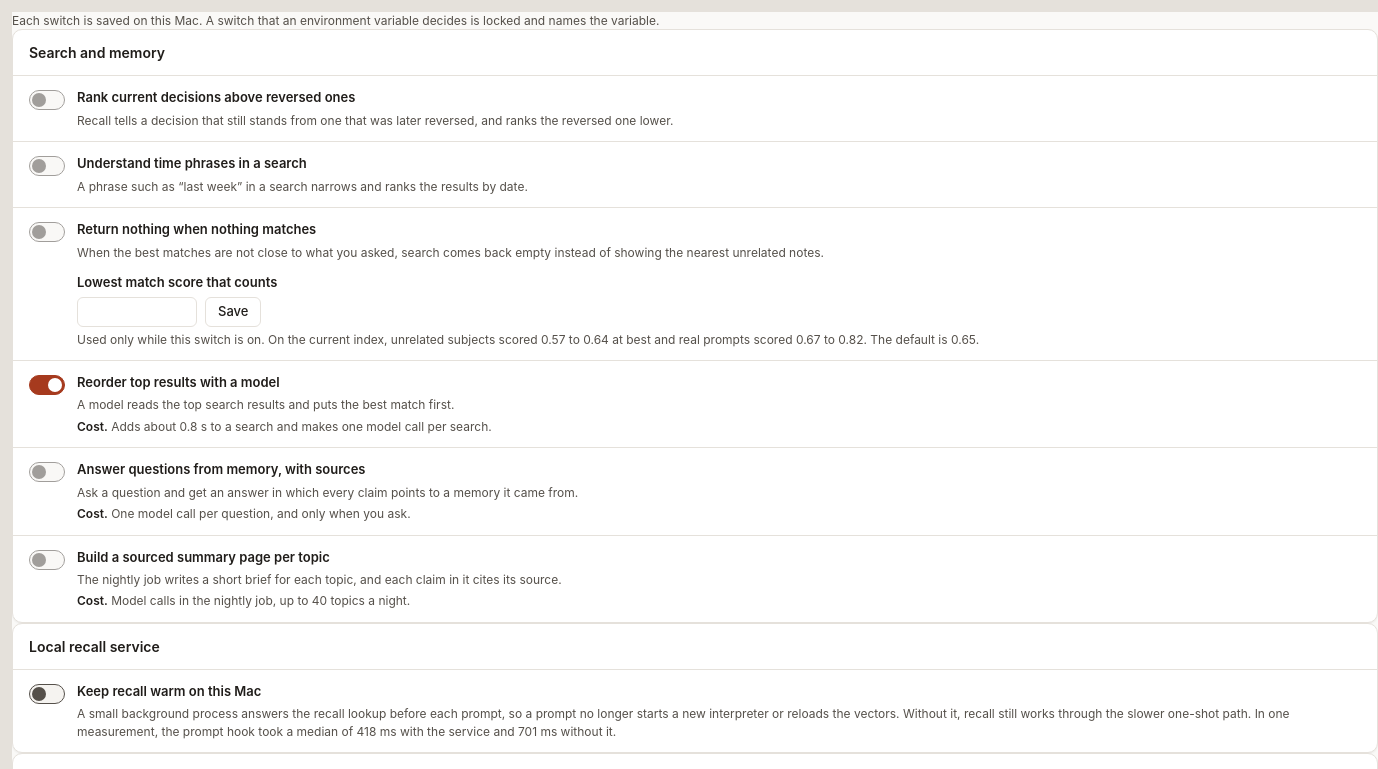
Test: Optional features: a write that succeeds and a re-read that fails › does not leave the old value on screen with no error
Click the switch labelled "Reorder top results with a model" at (47, 385), box [29, 375, 65, 395]
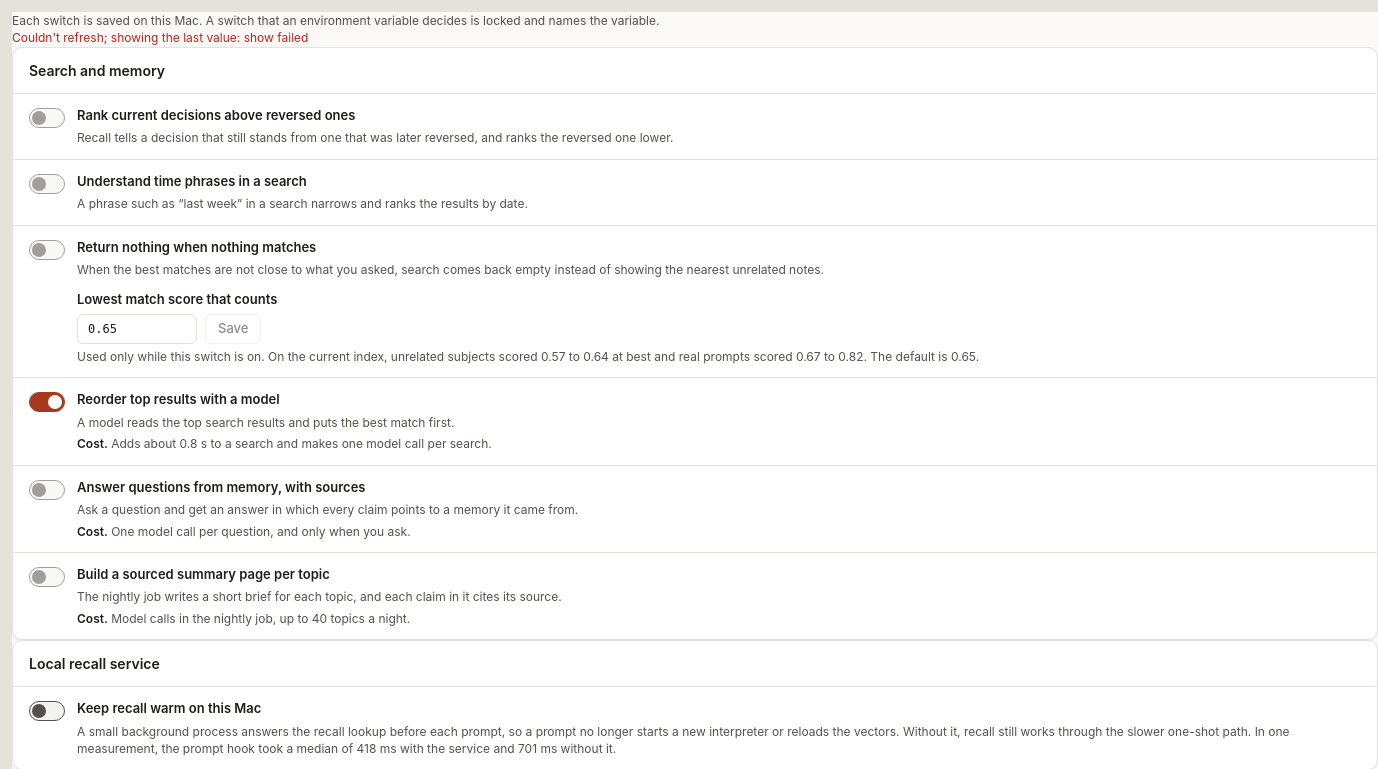
Check: the message shows "Couldn't refresh; showing the last value", box [12, 30, 244, 45]
